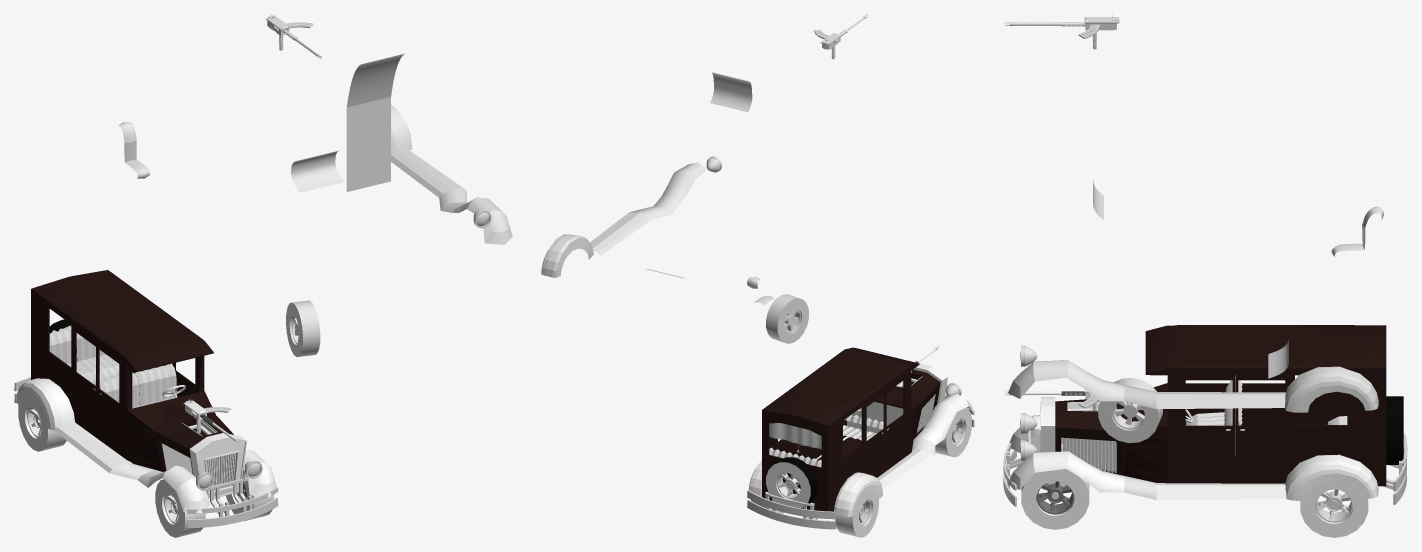
Rendered from Car_3.glb.
3 views of the same model, side by side, from view 1: azimuth 30°, elevation 25°; view 2: azimuth 150°, elevation 25°; view 3: azimuth 270°, elevation 25° (orthographic). The views are drawn at different scales.
Parts seen in each view (by area): view 1: Box001, Line006, Line004, haut de roue avant backup, Box008, Box002, Line003, Cylinder012, Plane007, Plane006, siege004, Cylinder018 (+10 smaller); view 2: Box001, haut de roue avant backup, Line004, Cylinder023, Cylinder012, Line006, Line003, haut de roue arriere back up, Plane006, Plane007, Cylinder020, Box002 (+5 smaller); view 3: Box001, haut de roue avant backup, Line002, Plane004, Plane005, haut de roue arriere back up, Line001, Cylinder003, Cylinder016, Box002, Cylinder012, Box005 (+8 smaller).
Part boxes in pixels (x1,y1,x2,y2): Box001: [31, 270, 215, 471]; Line006: [291, 53, 404, 192]; Line004: [54, 422, 210, 513]; haut de roue avant backup: [391, 147, 512, 244]; Box008: [189, 433, 246, 499]; Box002: [153, 414, 233, 474]; Line003: [16, 378, 74, 430]; Cylinder012: [286, 300, 320, 357]; Plane007: [73, 327, 97, 428]; Plane006: [97, 343, 120, 444]; siege004: [135, 364, 177, 405]; Cylinder018: [155, 479, 205, 537]; Box001: [762, 347, 921, 511]; haut de roue avant backup: [590, 162, 706, 255]; Line004: [877, 394, 974, 492]; Cylinder023: [766, 457, 817, 508]; Cylinder012: [766, 294, 808, 343]; Line006: [645, 72, 752, 278]; Line003: [834, 472, 882, 516]; haut de roue arriere back up: [541, 234, 593, 277]; Plane006: [885, 376, 905, 462]; Plane007: [865, 390, 885, 474]; Cylinder020: [835, 490, 878, 537]; Box002: [892, 369, 940, 438]; Box001: [1125, 325, 1386, 486]; haut de roue avant backup: [1008, 360, 1285, 408]; Line002: [1008, 451, 1286, 500]; Plane004: [1181, 375, 1235, 472]; Plane005: [1235, 375, 1289, 472]; haut de roue arriere back up: [1284, 366, 1378, 412]; Line001: [1285, 454, 1378, 500]; Cylinder003: [1021, 469, 1089, 529]; Cylinder016: [1300, 480, 1368, 537]; Box002: [1055, 399, 1126, 475]; Cylinder012: [1098, 378, 1162, 443]; Box005: [1062, 437, 1116, 473].
Size of the model in its own units: 4.99 by 6.2 by 4.23.
